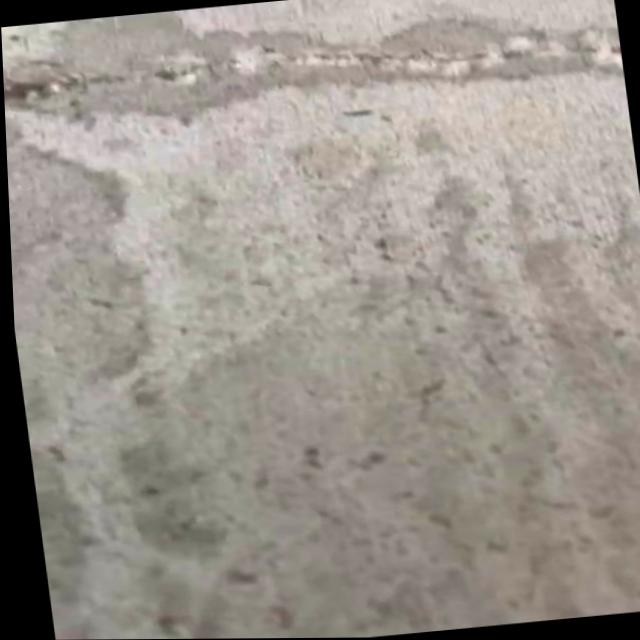Crack: (1, 12, 614, 130)
